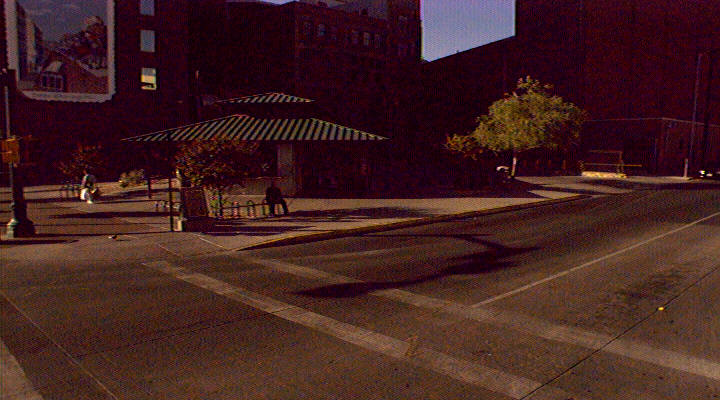Ramp: (48, 226, 300, 270)
